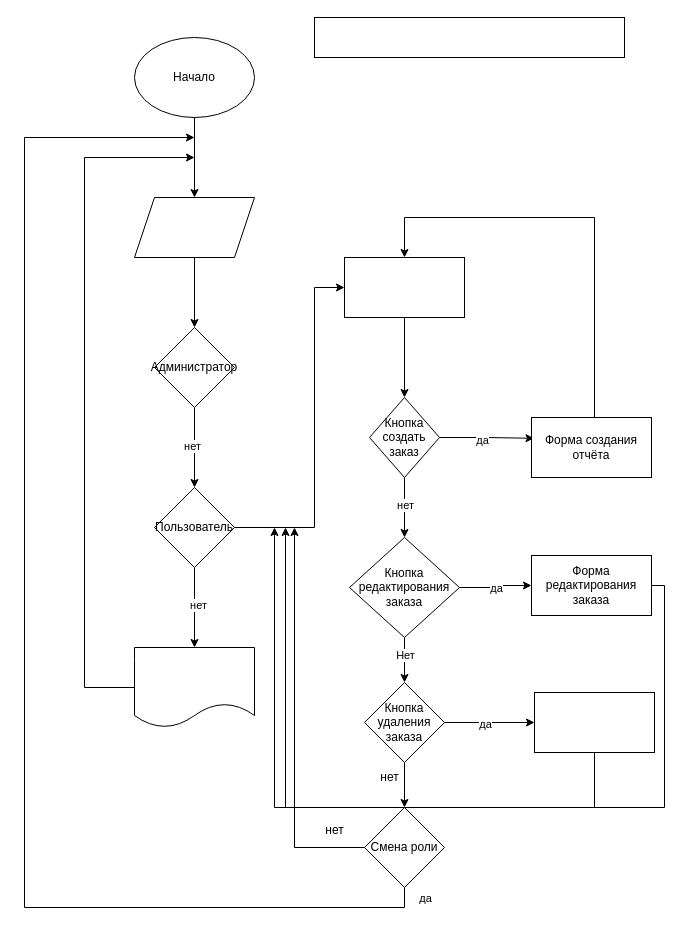
Image size: 690x933. Some labels were removed from this diagram. The centre of each missing label's shape, as x and y in pixels:
"Алгоритм работы программы" goes at (469,37).
"Логин, Пароль" goes at (194,227).
"Не верно" goes at (194,687).
"Просмотр списка" goes at (404,287).
"Удаление заказа" goes at (594,722).
